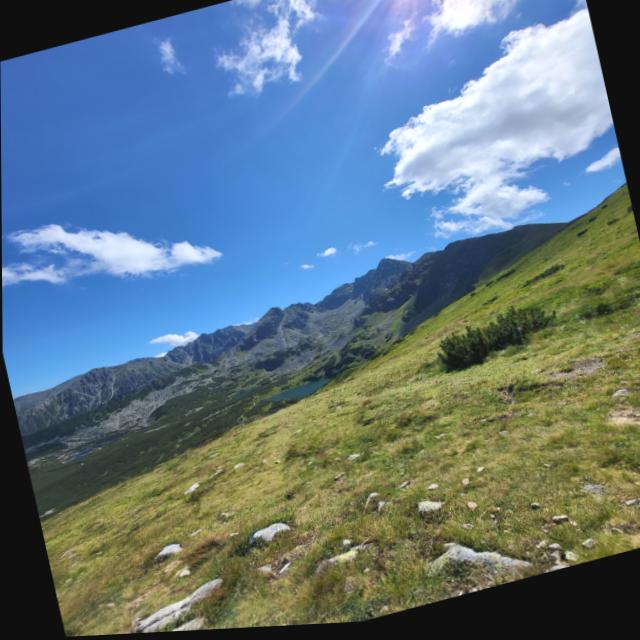Koscielec: (219, 264, 334, 353)
Skrajny i Posredni Granat: (154, 290, 271, 377)
Swinica: (333, 217, 440, 301)
